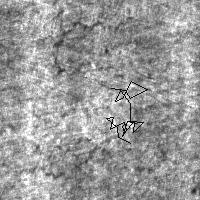crazing: (48, 11, 135, 77), (23, 133, 104, 180), (106, 81, 147, 143)
